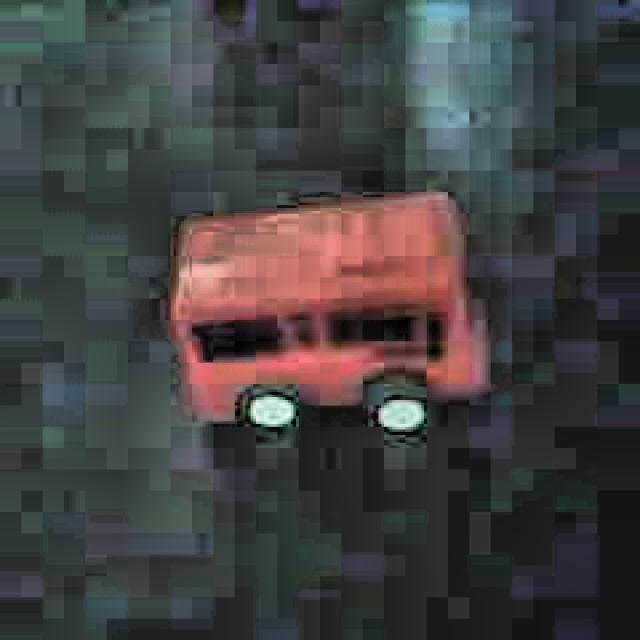bus: (161, 185, 496, 442)
